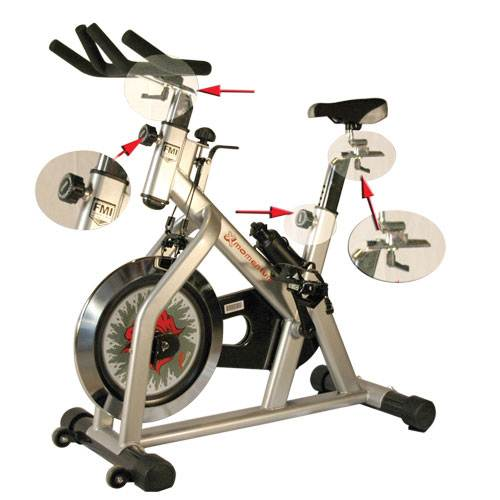gym_bike: (24, 24, 442, 494)
